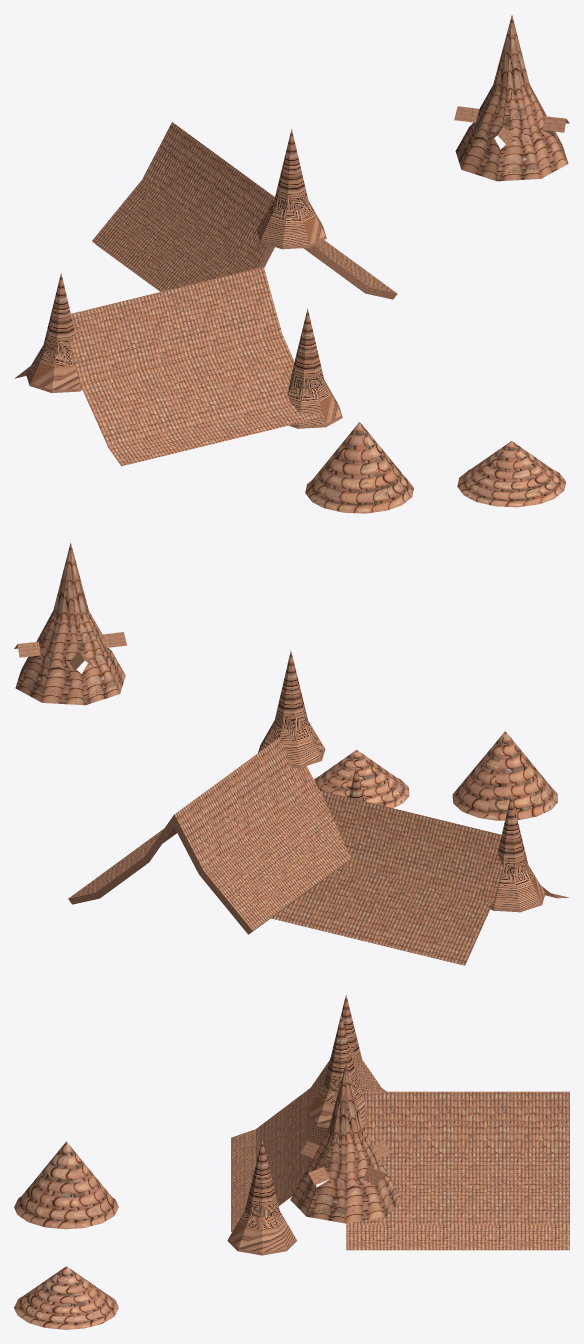
File: Castle_Roofings.obj
The picture shows the model from 3 angles, top to bottom: view 1: azimuth 30°, elevation 25°; view 2: azimuth 150°, elevation 25°; view 3: azimuth 270°, elevation 25°; orthographic projection. The views are drawn at different scales.
Parts seen in each view (by area): view 1: Block_low_Roof, Roof_B, Cone.001, Roof_left.001, Roof_left, Oriel_B_Roof, Oriel_A2_Roof, Oriel_A1_Roof, Eaves_B; view 2: Block_low_Roof, Roof_B, Cone.001, Roof_left.001, Oriel_B_Roof, Oriel_A2_Roof, Roof_left, Eaves_B; view 3: Roof_B, Cone.001, Block_low_Roof, Eaves_B, Roof_left.001, Roof_left, Oriel_A1_Roof, Oriel_B_Roof, Oriel_A2_Roof.
Boxes of the visible parts, <box> form: Block_low_Roof: <box>14,267,323,466</box>; Roof_B: <box>92,122,369,293</box>; Cone.001: <box>454,15,569,181</box>; Roof_left.001: <box>305,422,413,513</box>; Roof_left: <box>457,441,565,507</box>; Oriel_B_Roof: <box>256,129,326,249</box>; Oriel_A2_Roof: <box>26,272,82,392</box>; Oriel_A1_Roof: <box>287,308,342,428</box>; Eaves_B: <box>315,240,397,299</box>; Block_low_Roof: <box>271,790,568,965</box>; Roof_B: <box>96,737,350,934</box>; Cone.001: <box>14,543,127,705</box>; Roof_left.001: <box>452,731,557,820</box>; Oriel_B_Roof: <box>258,650,325,767</box>; Oriel_A2_Roof: <box>490,794,545,912</box>; Roof_left: <box>314,749,409,807</box>; Eaves_B: <box>68,829,163,904</box>; Roof_B: <box>346,1091,569,1224</box>; Cone.001: <box>290,1063,401,1223</box>; Block_low_Roof: <box>231,1044,386,1231</box>; Eaves_B: <box>346,1224,569,1250</box>; Roof_left.001: <box>14,1141,118,1229</box>; Roof_left: <box>14,1266,118,1329</box>; Oriel_A1_Roof: <box>227,1140,296,1255</box>; Oriel_B_Roof: <box>306,1015,368,1128</box>; Oriel_A2_Roof: <box>341,994,361,1058</box>.
Size of the model in its own units: 10.52 by 6.17 by 9.94.
